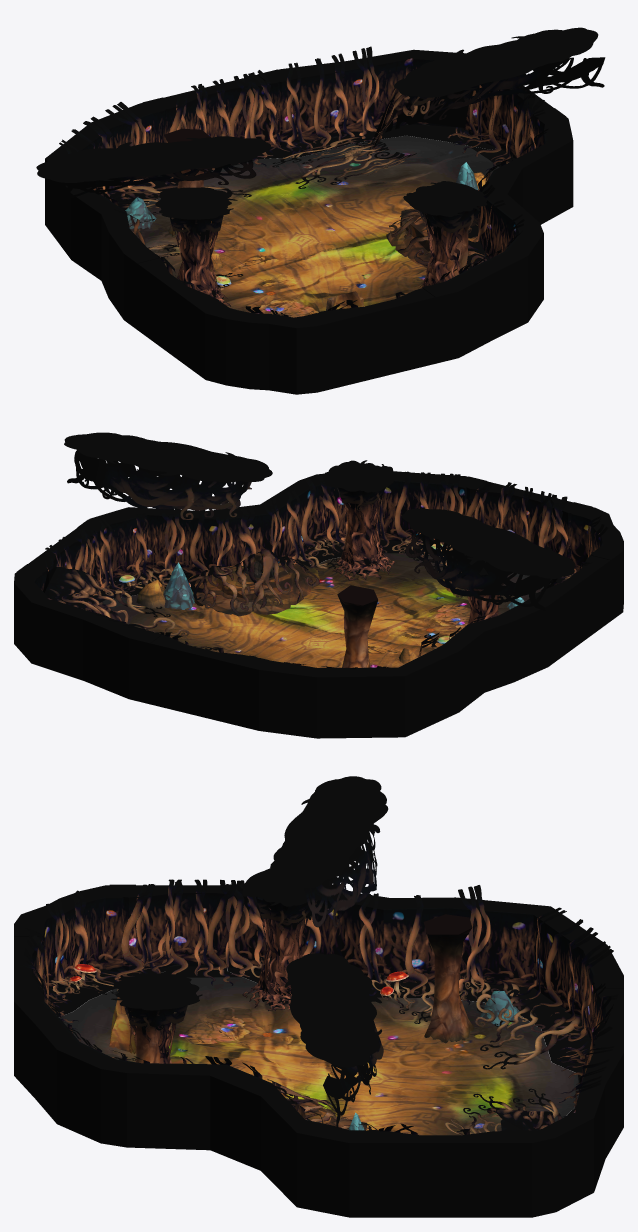
The model's file is Dungeon_021_Room_003.fbx.
3 renders of one model, top to bottom at view 1: azimuth 30°, elevation 25°; view 2: azimuth 150°, elevation 25°; view 3: azimuth 270°, elevation 25°, orthographic. The views are drawn at different scales.
Visible parts, largest first — view 1: Dun_021_Room_003_wall, Dun_021_Room_003_ground, un_021_Door_002 (×4), Dungeon_021_Object_025, Dungeon_021_Object_021, un_021_Door_002_Object1 (×2), Dungeon_021_Object_024, Dungeon_021_Object_010, Dungeon_021_Object_012, Dun_011_Room_003_shadow, Dungeon_021_Object_013, Dungeon_021_Object_011 (+5 smaller); view 2: Dun_021_Room_003_wall, Dungeon_021_Object_025, Dun_021_Room_003_ground, un_021_Door_002 (×4), Dungeon_021_Object_021, un_021_Door_002_Object1 (×2), Dungeon_021_Object_015, Dungeon_021_Object_016, Dungeon_021_Object_011, Dungeon_021_Object_024, Dungeon_021_Object_010, Dungeon_011_Object_010 (+5 smaller); view 3: Dun_021_Room_003_wall, Dun_021_Room_003_ground, un_021_Door_002 (×4), Dungeon_021_Object_025, Dungeon_021_Object_021, un_021_Door_002_Object1 (×3), Dungeon_011_Object_010 (×2), Dungeon_021_Object_022, Dun_011_Room_003_shadow, Dungeon_021_Object_010, Dungeon_021_Object_013, Dungeon_021_Object_012 (+6 smaller).
Part boxes in pixels (x1,y1,x2,y2): Dun_021_Room_003_wall: [45, 49, 573, 394]; Dun_021_Room_003_ground: [130, 135, 499, 317]; un_021_Door_002 (×4): [126, 69, 566, 386]; Dungeon_021_Object_025: [36, 27, 605, 203]; Dungeon_021_Object_021: [59, 46, 548, 316]; un_021_Door_002_Object1 (×2): [166, 70, 544, 184]; Dungeon_021_Object_024: [272, 88, 473, 188]; Dungeon_021_Object_010: [403, 181, 487, 233]; Dungeon_021_Object_012: [155, 187, 237, 236]; Dun_011_Room_003_shadow: [105, 124, 495, 210]; Dungeon_021_Object_013: [173, 221, 230, 306]; Dungeon_021_Object_011: [419, 213, 465, 287]; Dun_021_Room_003_wall: [14, 471, 623, 738]; Dungeon_021_Object_025: [64, 432, 575, 611]; Dun_021_Room_003_ground: [102, 553, 550, 667]; un_021_Door_002 (×4): [17, 476, 620, 725]; Dungeon_021_Object_021: [71, 471, 607, 669]; un_021_Door_002_Object1 (×2): [43, 481, 576, 595]; Dungeon_021_Object_015: [188, 552, 319, 616]; Dungeon_021_Object_016: [187, 548, 319, 613]; Dungeon_021_Object_011: [332, 491, 395, 580]; Dungeon_021_Object_024: [43, 566, 211, 650]; Dungeon_021_Object_010: [324, 460, 396, 510]; Dungeon_011_Object_010: [337, 585, 377, 667]; Dun_021_Room_003_wall: [14, 885, 623, 1217]; Dun_021_Room_003_ground: [59, 977, 578, 1135]; un_021_Door_002 (×4): [14, 884, 623, 1217]; Dungeon_021_Object_025: [270, 776, 388, 1127]; Dungeon_021_Object_021: [39, 885, 613, 1130]; un_021_Door_002_Object1 (×3): [20, 879, 617, 1107]; Dungeon_011_Object_010 (×2): [130, 914, 474, 1063]; Dungeon_021_Object_022: [48, 956, 583, 1069]; Dun_011_Room_003_shadow: [49, 967, 590, 1115]; Dungeon_021_Object_010: [111, 973, 202, 1031]; Dungeon_021_Object_013: [242, 902, 310, 1010]; Dungeon_021_Object_012: [242, 868, 332, 930].
Size of what is drawn, in the model's own units: 18.45 by 4.55 by 15.
